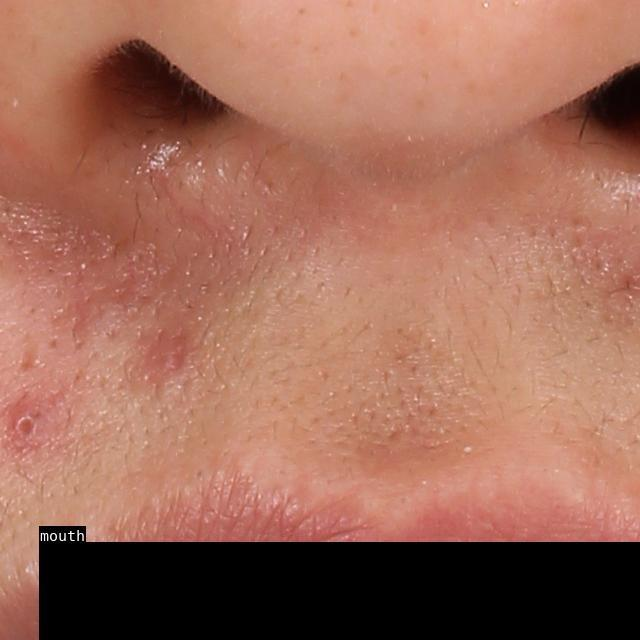papule: (5, 402, 42, 450)
